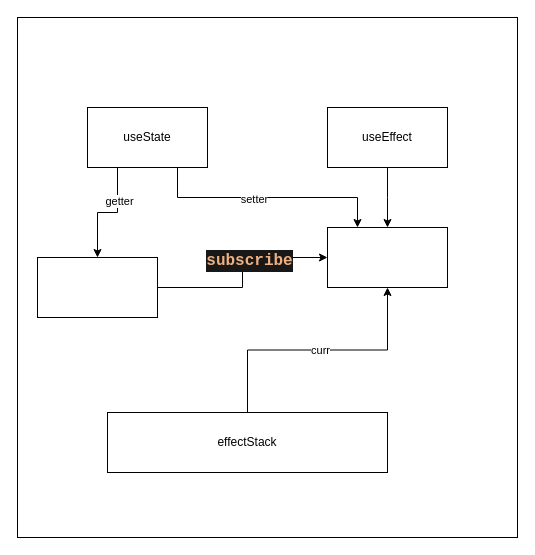
Some shapes in this 535 by 555 pixel diagram are drawn without their labels. Here are the shapes that lost their labels. From the top down, the box of each, then its label:
(326, 226, 448, 288): effect
(36, 256, 158, 318): subs
